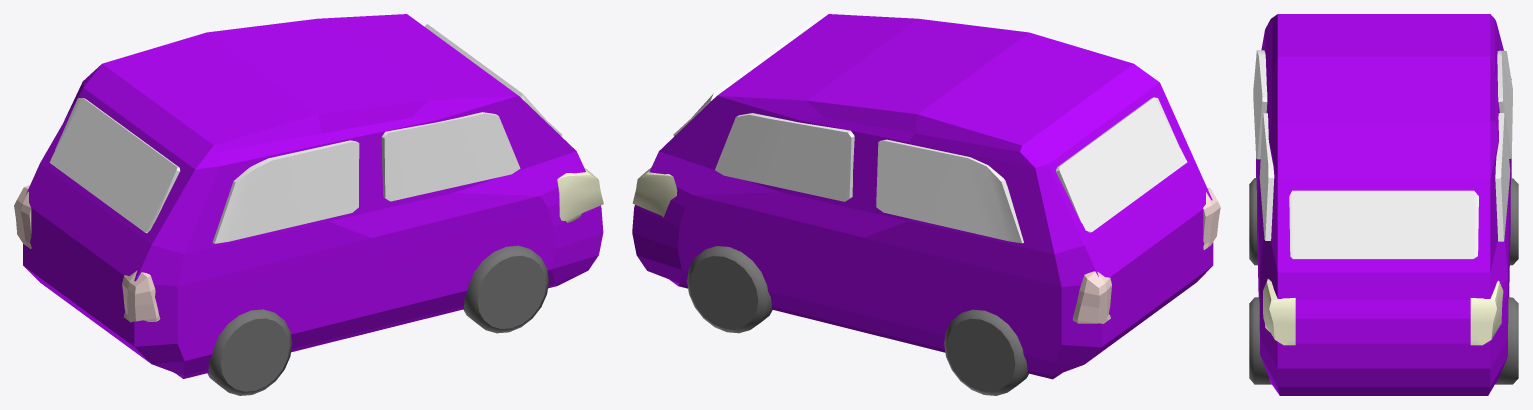
Rendered from CarroMorado.fbx.
The picture shows the model from 3 angles, left to right: view 1: azimuth 30°, elevation 25°; view 2: azimuth 150°, elevation 25°; view 3: azimuth 270°, elevation 25°; orthographic projection. The views are drawn at different scales.
Visible parts, largest first — view 1: pCube1, pCube7, pCube10, pCube8, pCylinder1, pCylinder2, pCube11, pCube9, pCube6; view 2: pCube1, pCube4, pCube10, pCube12, pCylinder3, pCylinder4, pCube11, pCube9, pCube6; view 3: pCube1, pCube6, pCube9, pCube12, pCube8, pCube4, pCube7, pCylinder1, pCylinder3, pCylinder4, pCylinder2.
Boxes of the visible parts, left/top/right/bottom form: pCube1: left=23, top=14, right=603, bottom=378; pCube7: left=212, top=140, right=359, bottom=243; pCube10: left=49, top=98, right=180, bottom=232; pCube8: left=381, top=112, right=520, bottom=201; pCylinder1: left=463, top=245, right=548, bottom=333; pCylinder2: left=207, top=309, right=292, bottom=395; pCube11: left=14, top=185, right=160, bottom=322; pCube9: left=557, top=168, right=603, bottom=222; pCube6: left=425, top=24, right=562, bottom=136; pCube1: left=632, top=14, right=1213, bottom=379; pCube4: left=876, top=139, right=1023, bottom=243; pCube10: left=1056, top=97, right=1187, bottom=232; pCube12: left=715, top=113, right=854, bottom=201; pCylinder3: left=687, top=246, right=772, bottom=333; pCylinder4: left=944, top=309, right=1028, bottom=395; pCube11: left=1072, top=188, right=1220, bottom=323; pCube9: left=632, top=168, right=677, bottom=217; pCube6: left=673, top=23, right=811, bottom=136; pCube1: left=1256, top=14, right=1511, bottom=395; pCube6: left=1289, top=190, right=1478, bottom=259; pCube9: left=1263, top=279, right=1503, bottom=345; pCube12: left=1495, top=113, right=1510, bottom=241; pCube8: left=1259, top=113, right=1274, bottom=240; pCube4: left=1497, top=50, right=1512, bottom=158; pCube7: left=1253, top=50, right=1267, bottom=159; pCylinder1: left=1249, top=297, right=1271, bottom=384; pCylinder3: left=1495, top=297, right=1518, bottom=384; pCylinder4: left=1510, top=178, right=1518, bottom=265; pCylinder2: left=1249, top=178, right=1257, bottom=265.
Bounding box in the file's own units: 21.46 × 10.94 × 11.09.
